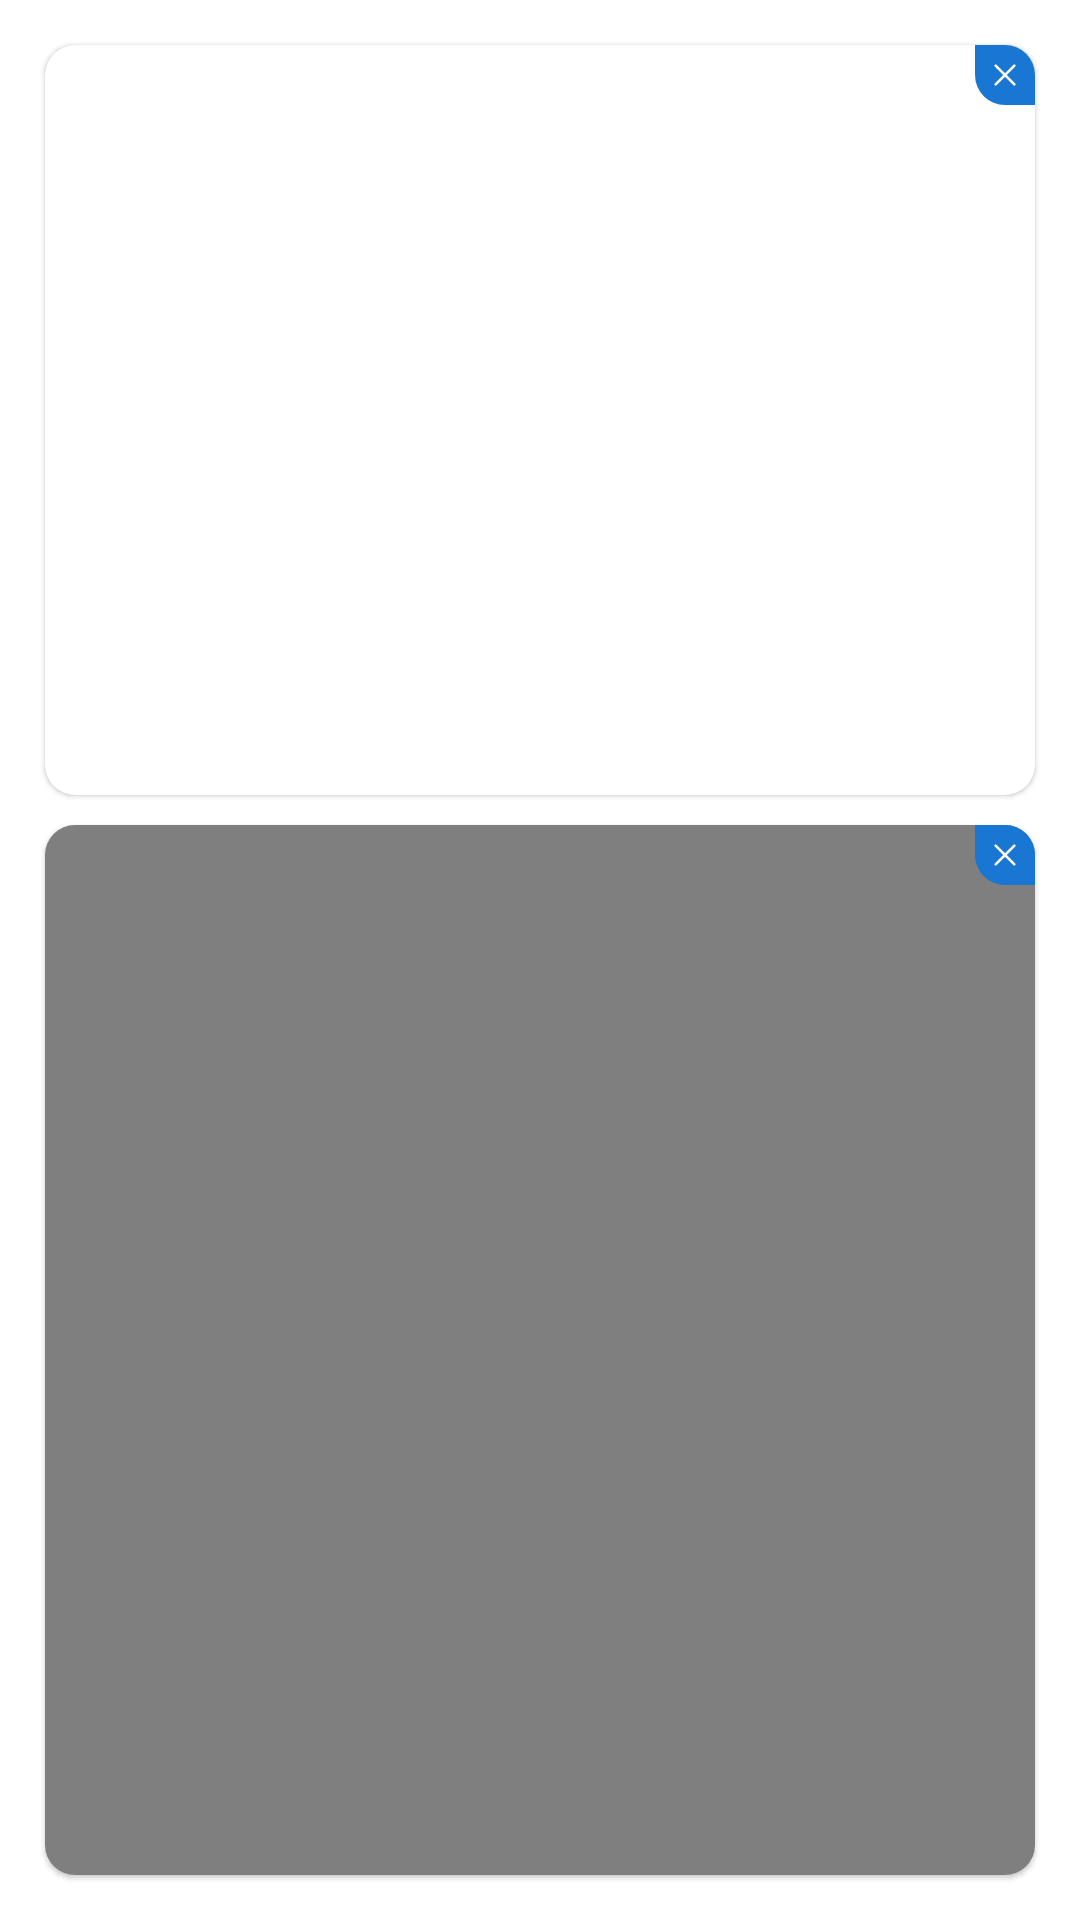

Screen size 1080x1920. Icon name, then its center in pixels as point (x, y):
cancel: point (1005, 75), point (1005, 855)
